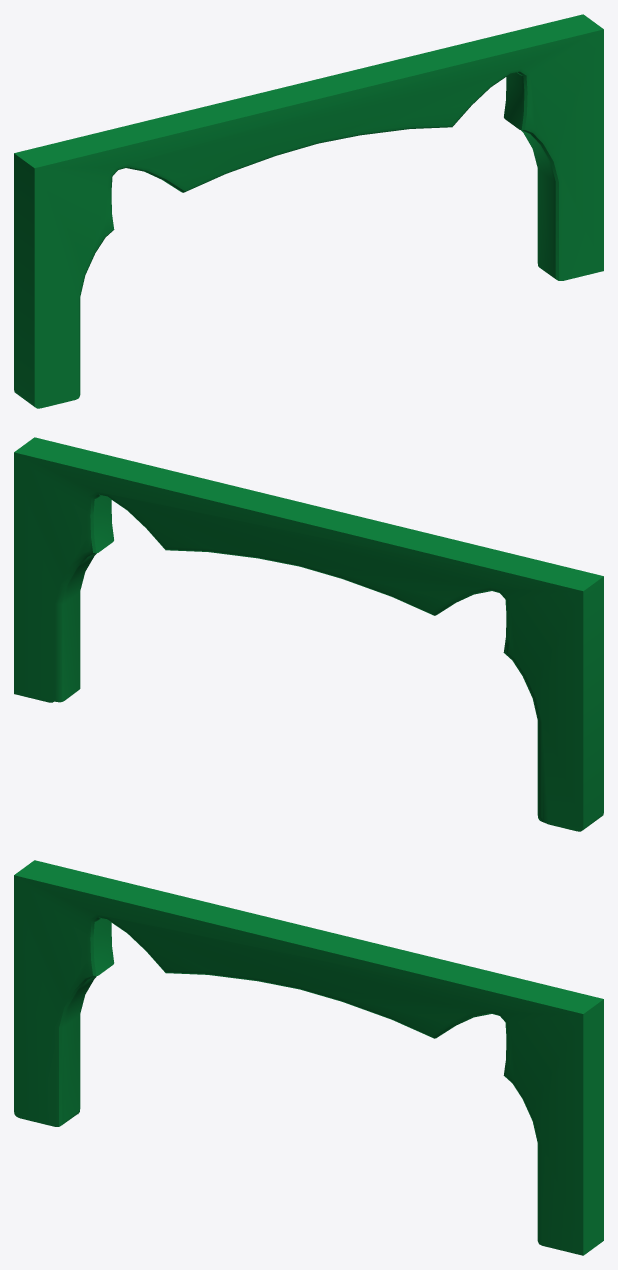
The model's file is Modelling_ArchedPillar_object.FBX.
The picture shows the model from 3 angles, top to bottom: view 1: azimuth 30°, elevation 25°; view 2: azimuth 150°, elevation 25°; view 3: azimuth 330°, elevation 25°; orthographic projection.
Parts seen in each view (by area): view 1: ArchedPillar; view 2: ArchedPillar; view 3: ArchedPillar.
Part boxes in pixels (box(x1,y1,x2,y2)): ArchedPillar: box(14, 14, 603, 408); ArchedPillar: box(14, 437, 603, 831); ArchedPillar: box(14, 860, 603, 1255).
Bounding box in the file's own units: 993 × 403 × 62.2.
